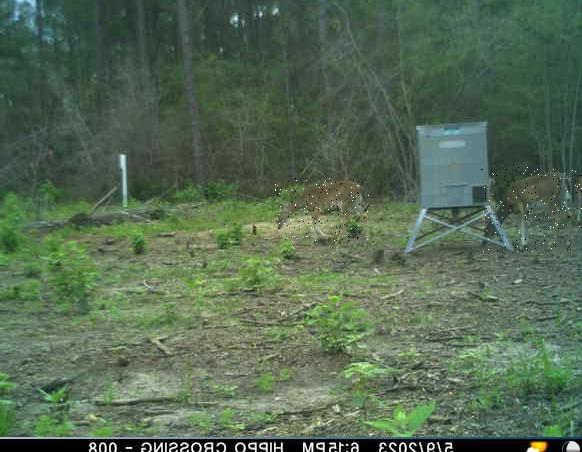Deer: (481, 167, 573, 252), (274, 179, 370, 243), (570, 171, 582, 232)
